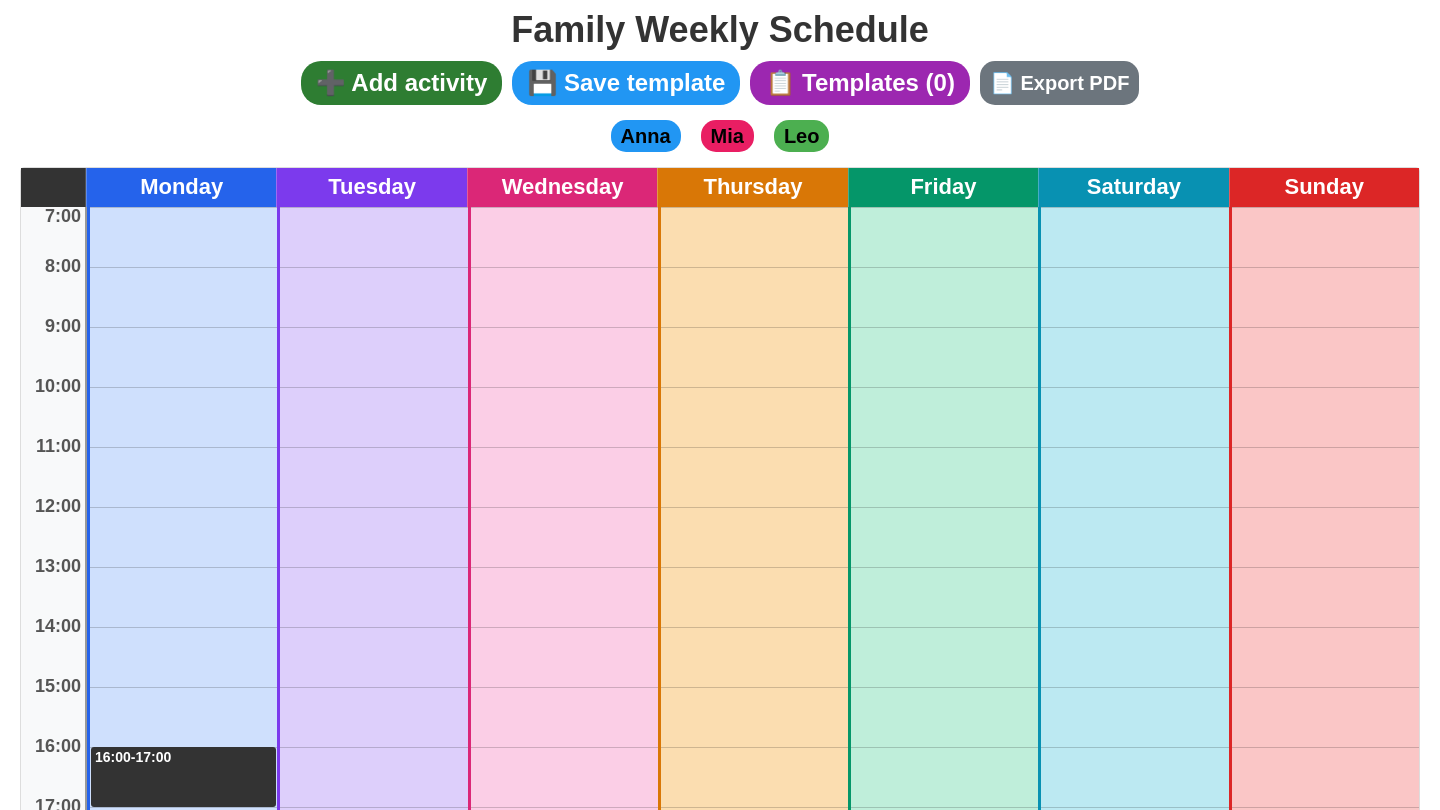
it: CalendarComponent › hover details › shows the full title, person and time while hovering a block
Hover over the button with class "grid-activity": point(184, 777) [91,747,276,807]
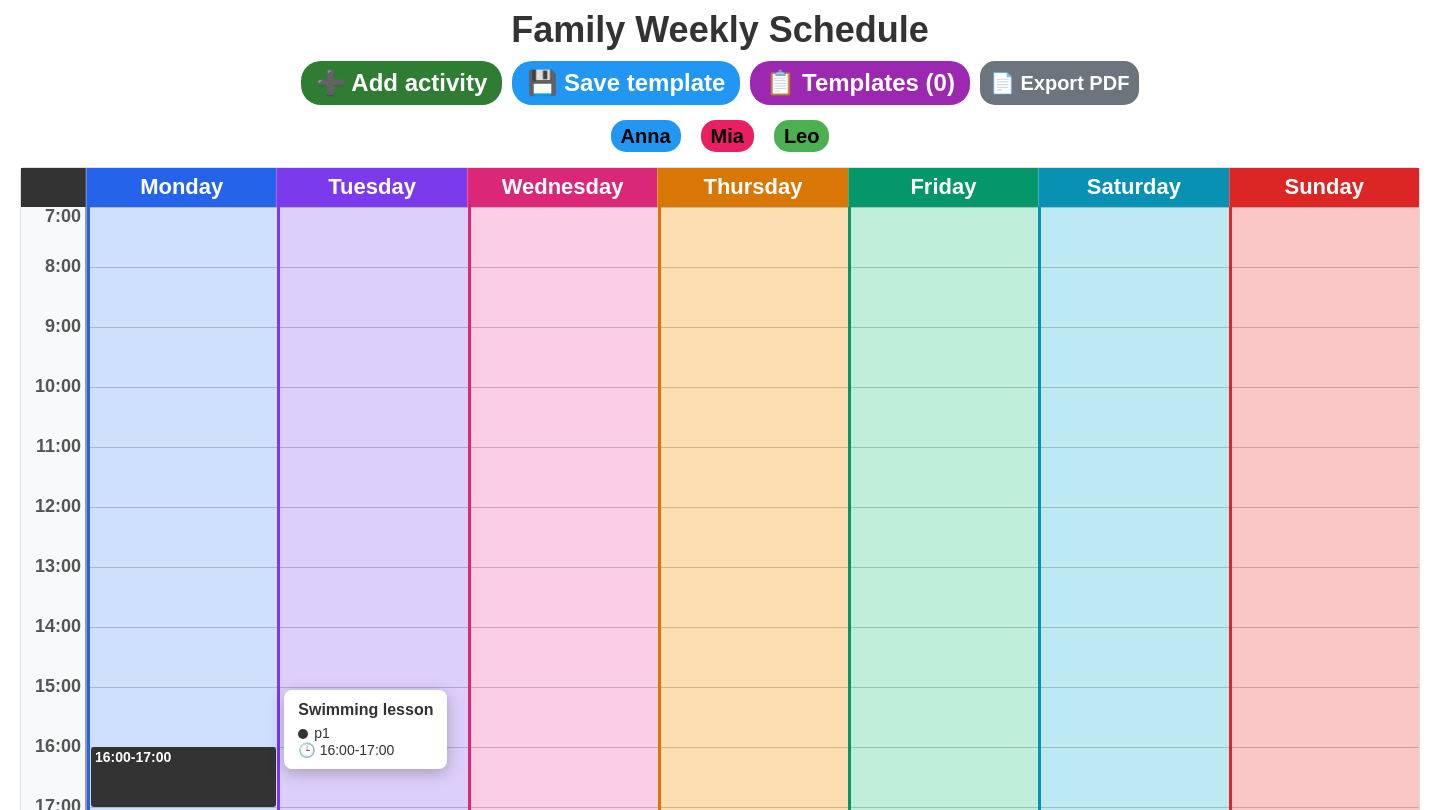
Check: the tooltip with class "activity-details" shows "Swimming lesson", box [298,701,433,718]
Check: the tooltip with class "activity-details" shows "16:00-17:00", box [298,742,394,758]
Move the pointer off the button with class "grid-activity", box [91,747,276,807]
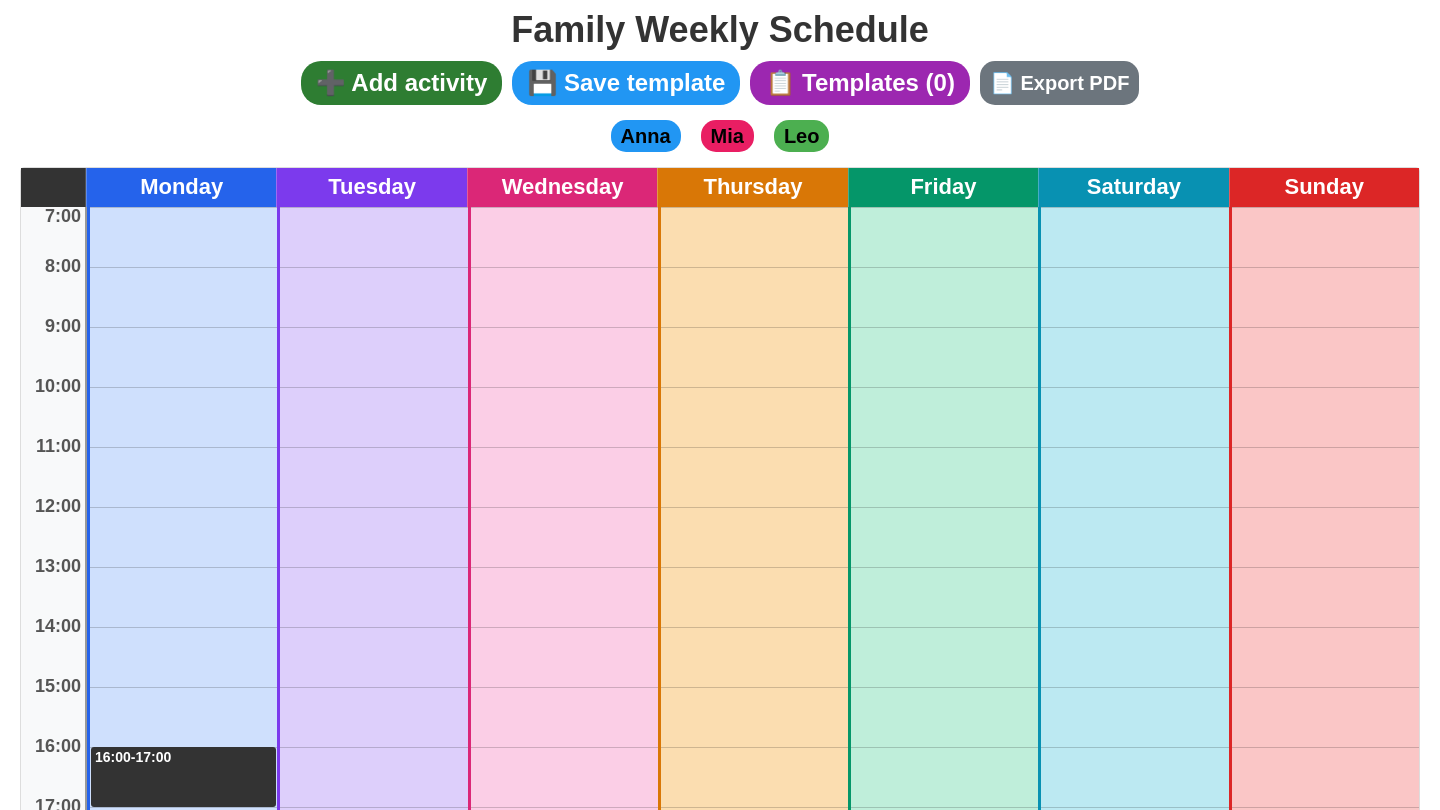
Check: the tooltip with class "activity-details" is gone
